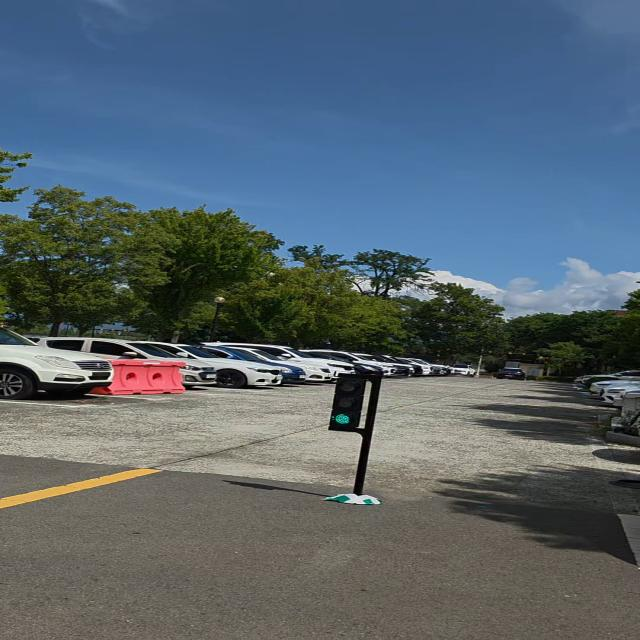green: (329, 371, 369, 432)
